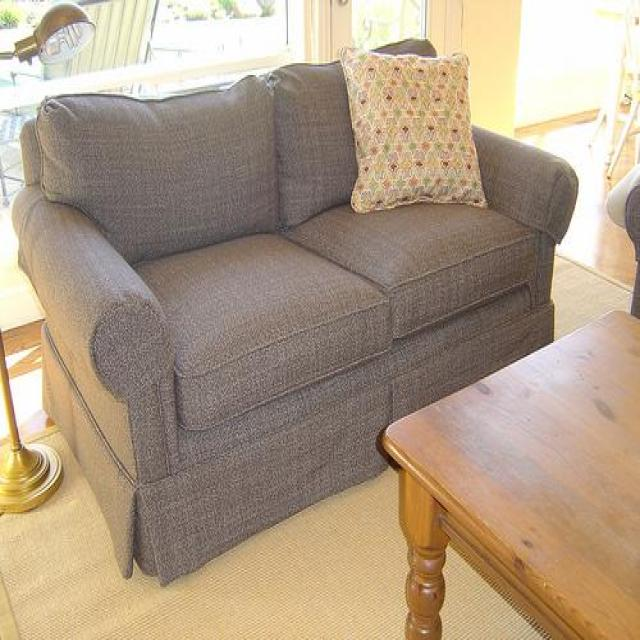sofa: (11, 37, 579, 585)
